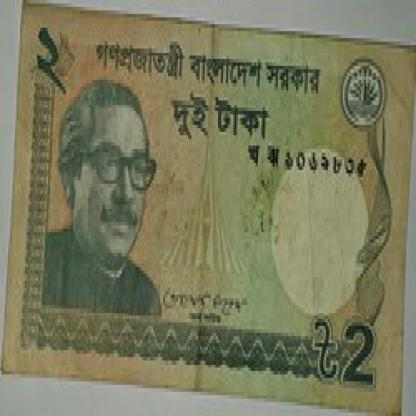two taka: (171, 90, 278, 153), (341, 308, 385, 405), (35, 21, 75, 94)
